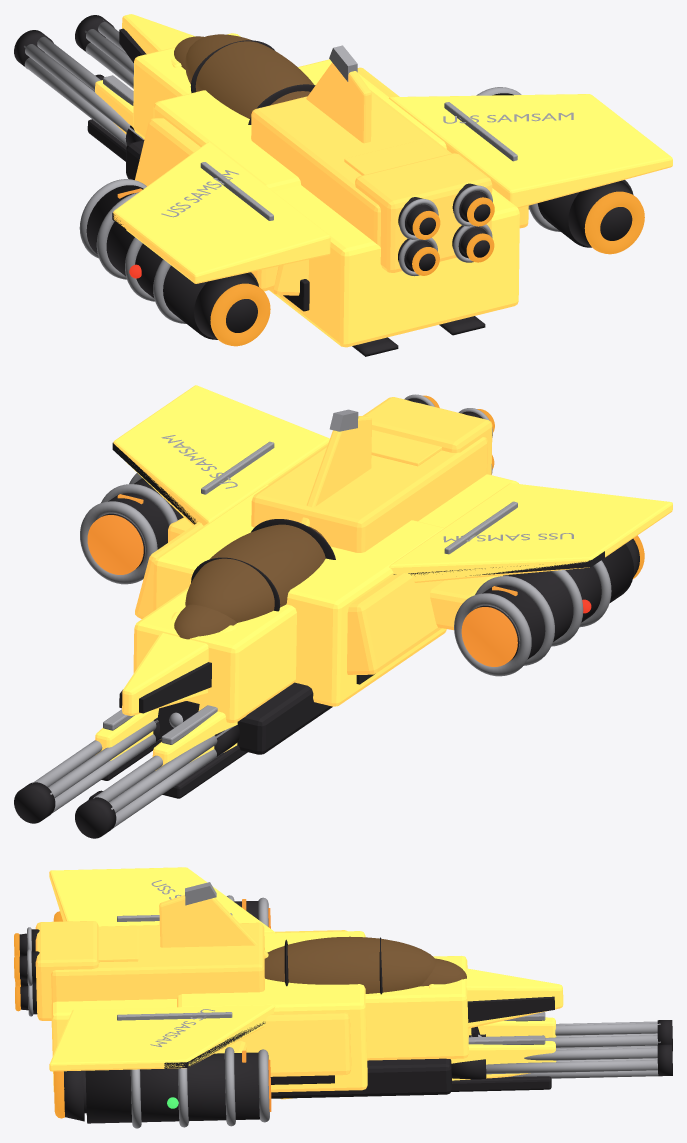
Rendered from uss-samsam.glb.
3 renders of one model, top to bottom at view 1: azimuth 30°, elevation 25°; view 2: azimuth 150°, elevation 25°; view 3: azimuth 270°, elevation 25°, orthographic. The views are drawn at different scales.
Parts seen in each view (by area): view 1: CoreRear, WingR, WingL, DorsalDeck, QuadBlock, Canopy, CoreMid, NacelleL, ShoulderL, DorsalFin, CoreFwd, ThrusterLBell (+25 smaller); view 2: WingL, WingR, CoreMid, DorsalDeck, CoreFwd, Canopy, ShoulderL, NacelleL, QuadBlock, NoseProw, BellyDeck, DorsalFin (+31 smaller); view 3: WingR, DorsalDeck, NacelleR, CoreFwd, Canopy, WingL, CoreMid, ShoulderR, QuadBlock, DorsalFin, BellyDeck, NoseProw (+25 smaller).
Boxes of the visible parts, x1,y1,x2,y2 form: CoreRear: (269,185,519,347); WingR: (389,94,672,208); WingL: (113,142,330,283); DorsalDeck: (251,90,451,246); QuadBlock: (355,153,492,272); Canopy: (185,34,313,118); CoreMid: (153,59,446,191); NacelleL: (86,185,258,339); ShoulderL: (135,118,308,295); DorsalFin: (306,62,371,143); CoreFwd: (133,33,240,138); ThrusterLBell: (194,273,258,339); WingL: (389,483,672,582); WingR: (113,385,329,525); CoreMid: (153,484,446,706); DorsalDeck: (251,437,487,552); CoreFwd: (133,587,296,723); Canopy: (185,524,326,622); ShoulderL: (347,573,443,674); NacelleL: (475,544,633,660); QuadBlock: (363,397,492,474); NoseProw: (122,612,237,715); BellyDeck: (237,682,332,754); DorsalFin: (300,415,371,526); WingR: (49,1005,275,1071); DorsalDeck: (51,922,264,1003); NacelleR: (85,1052,259,1123); CoreFwd: (365,956,468,1060); Canopy: (264,936,436,993); WingL: (49,867,274,933); CoreMid: (177,931,367,1092); ShoulderR: (238,1012,351,1076); QuadBlock: (35,921,98,1020); DorsalFin: (159,895,268,958); BellyDeck: (271,1058,451,1098); NoseProw: (429,968,563,1028).
Size of the model in its own units: 4.4 by 2.07 by 6.29.
